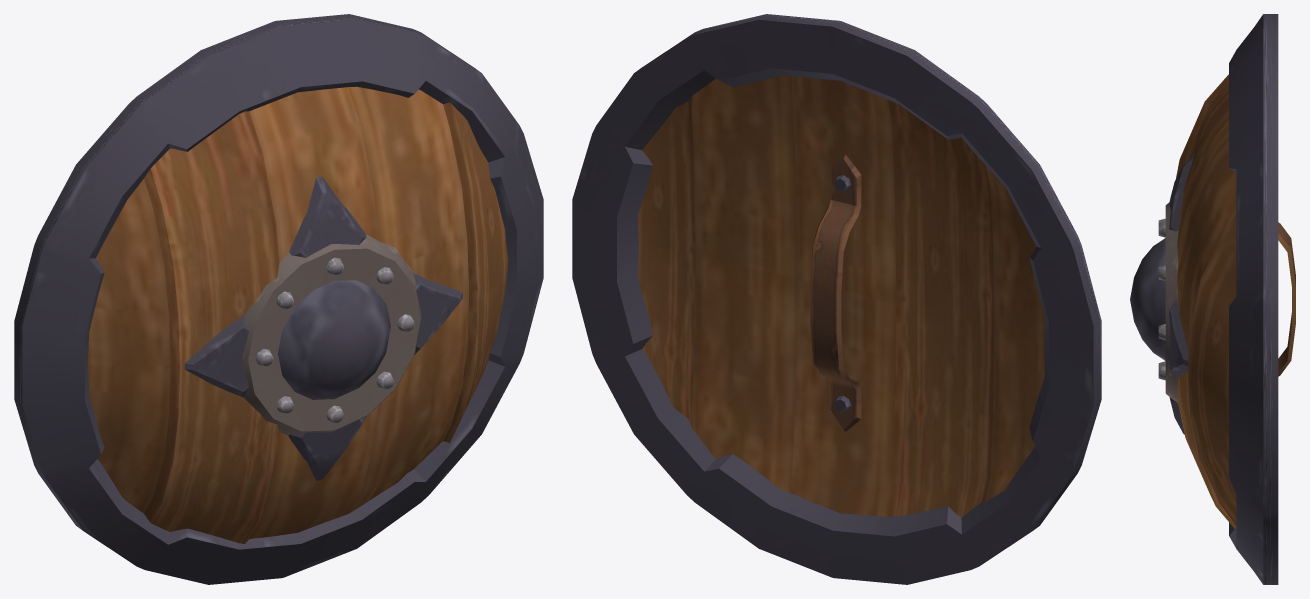
Rendered from shield-wooden.glb.
The picture shows the model from 3 angles, left to right: view 1: azimuth 30°, elevation 25°; view 2: azimuth 150°, elevation 25°; view 3: azimuth 270°, elevation 25°; orthographic projection. The views are drawn at different scales.
Visible parts, largest first — view 1: Shield_Wooden; view 2: Shield_Wooden; view 3: Shield_Wooden.
Boxes of the visible parts, x1,y1,x2,y2 form: Shield_Wooden: (14,14,543,584); Shield_Wooden: (572,14,1101,584); Shield_Wooden: (1130,14,1295,584).
Bounding box in the file's own units: 0.6146 × 0.6209 × 0.1788.
Materials: 3 (3 with a texture image).
